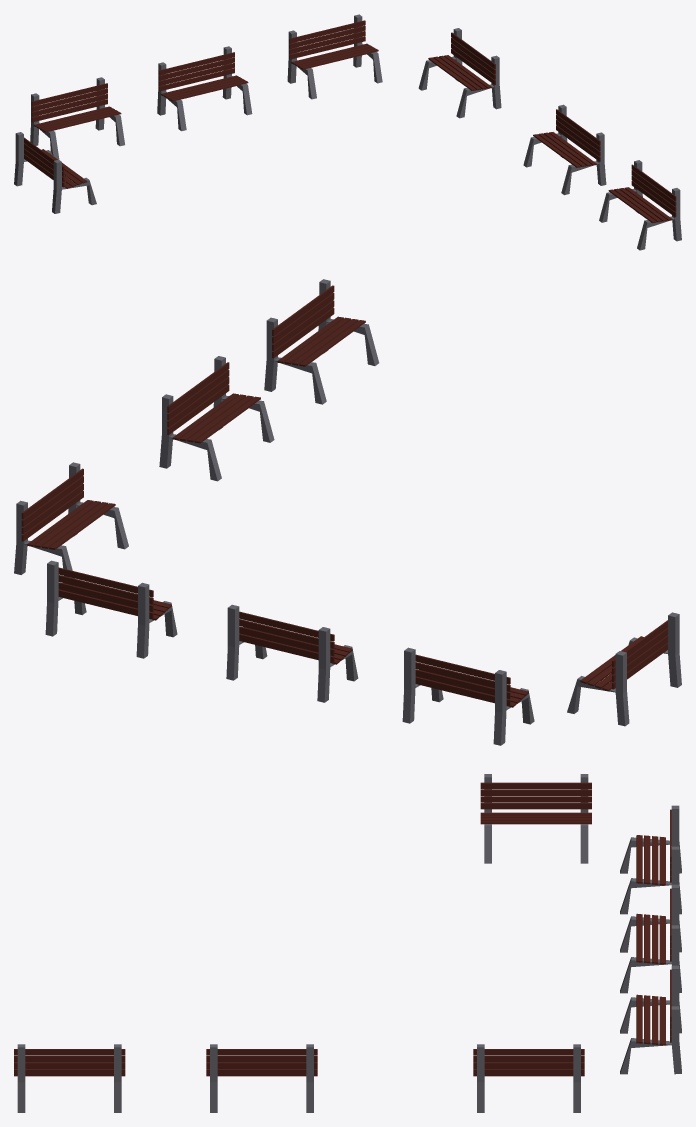
File: shelterbench.glb
The picture shows the model from 3 angles, top to bottom: view 1: azimuth 30°, elevation 25°; view 2: azimuth 150°, elevation 25°; view 3: azimuth 270°, elevation 25°; orthographic projection. The views are drawn at different scales.
Parts seen in each view (by area): view 1: Cube.010; view 2: Cube.010; view 3: Cube.010.
Boxes of the visible parts, bbox=[...] form: Cube.010: bbox=[14, 14, 681, 250]; Cube.010: bbox=[14, 279, 681, 745]; Cube.010: bbox=[14, 774, 681, 1112].
Bounding box in the file's own units: 2.44 × 0.2664 × 2.5.
